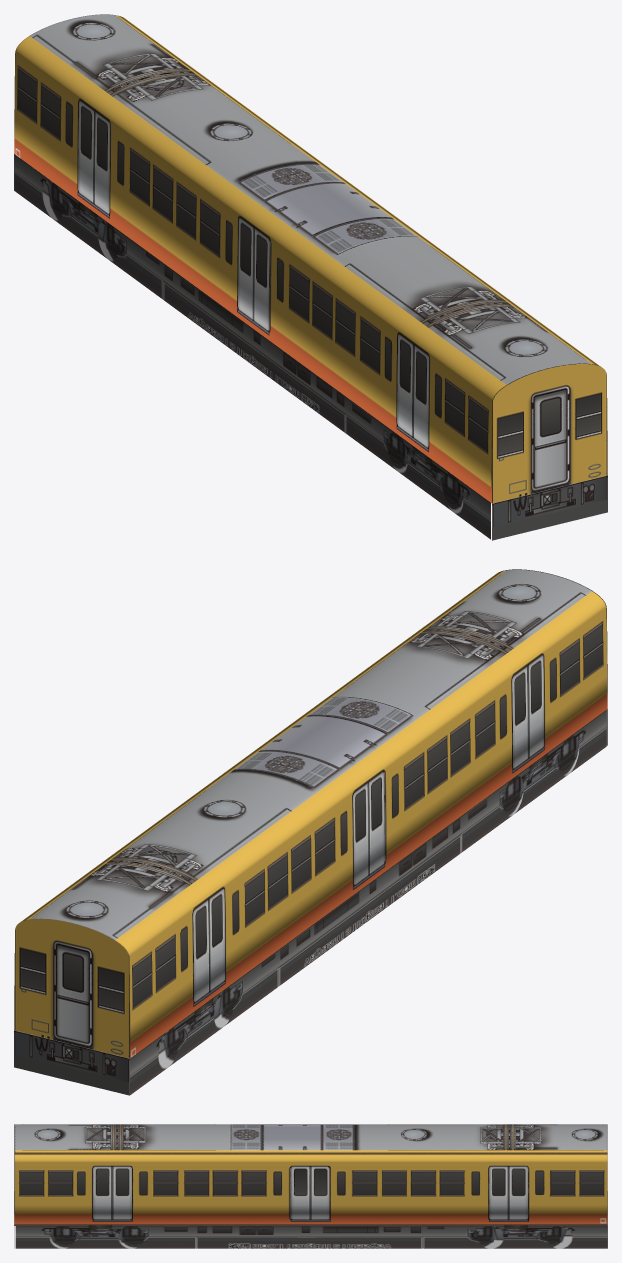
The model's file is car2.glb.
The picture shows the model from 3 angles, top to bottom: view 1: azimuth 30°, elevation 25°; view 2: azimuth 150°, elevation 25°; view 3: azimuth 270°, elevation 25°; orthographic projection. The views are drawn at different scales.
Visible parts, largest first — view 1: sanki-801-car2; view 2: sanki-801-car2; view 3: sanki-801-car2.
Part boxes in pixels (<box>): sanki-801-car2: <box>14,14,607,540</box>; sanki-801-car2: <box>14,569,607,1095</box>; sanki-801-car2: <box>14,1124,607,1248</box>.
Size of the model in its own units: 2.8 by 3.65 by 20.03.
Materials: 9 (8 with a texture image).
